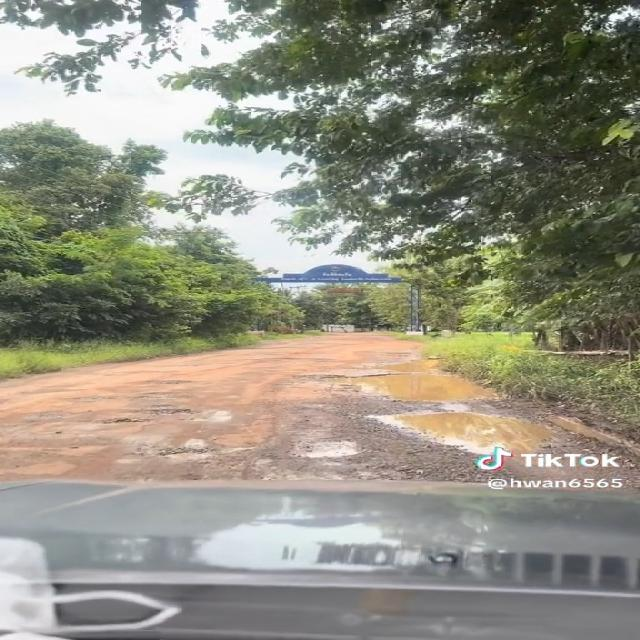Poth-hole: (200, 359, 359, 373)
